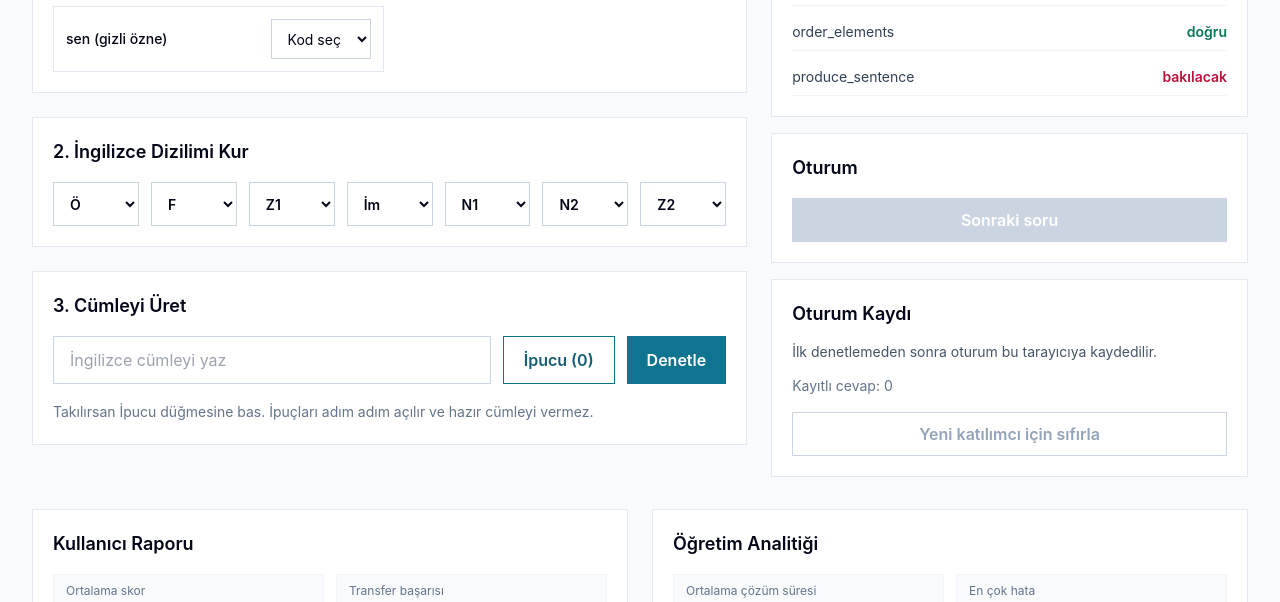
Test: LessonClient › clears revealed hints when moving to the next question
(page scrolled)
Step 1. Click the button "İpucu (0)" → {"x": 559, "y": 360}, box top-left (503, 336), bottom-right (615, 384)
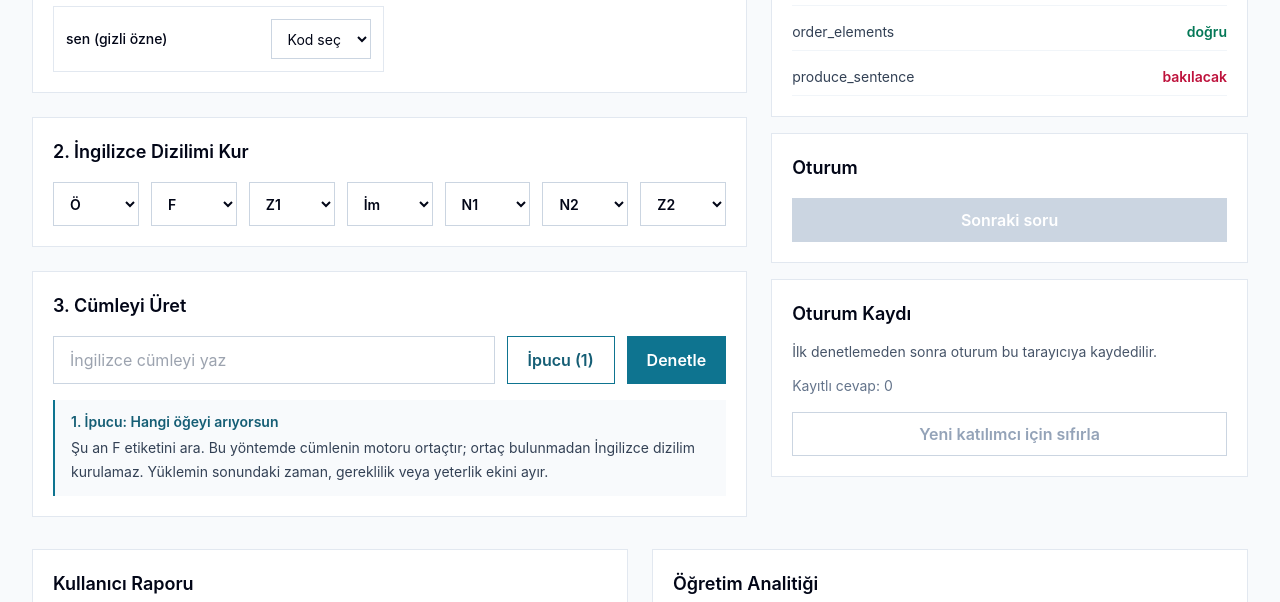
Expected: the text "1. İpucu: Hangi öğeyi arıyorsun" is shown, top-left (71, 413), bottom-right (278, 430)
Step 2. Click the button "Denetle" → {"x": 676, "y": 360}, box top-left (627, 336), bottom-right (726, 384)
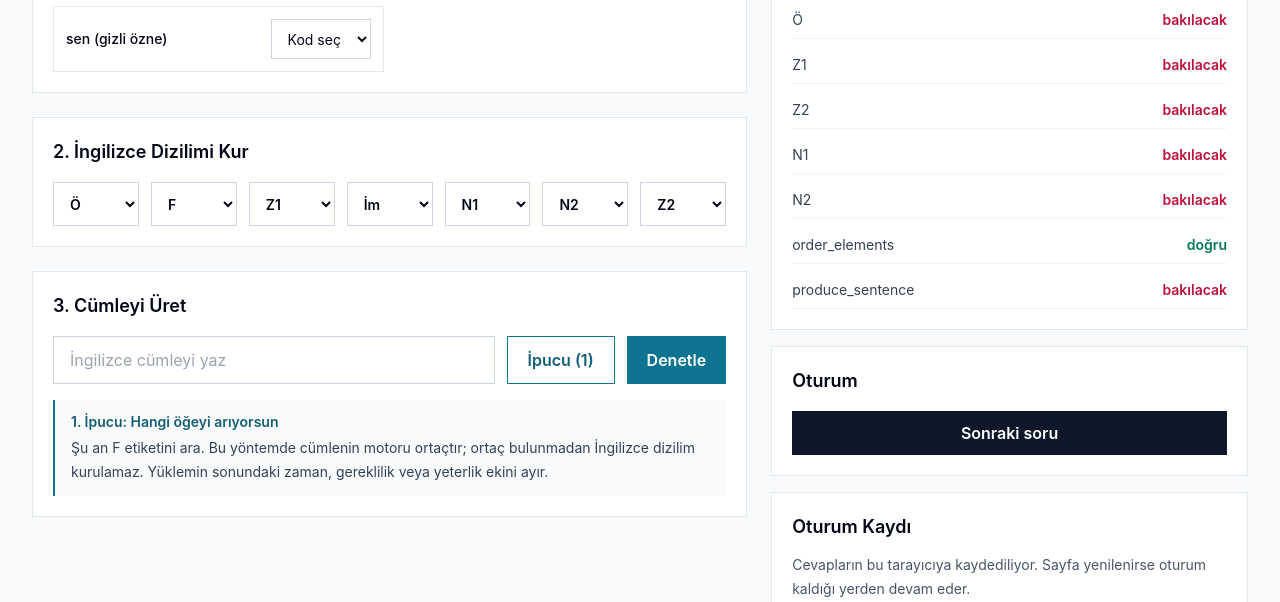
Step 3. Click the button "Sonraki soru" → {"x": 1010, "y": 433}, box top-left (792, 411), bottom-right (1227, 455)
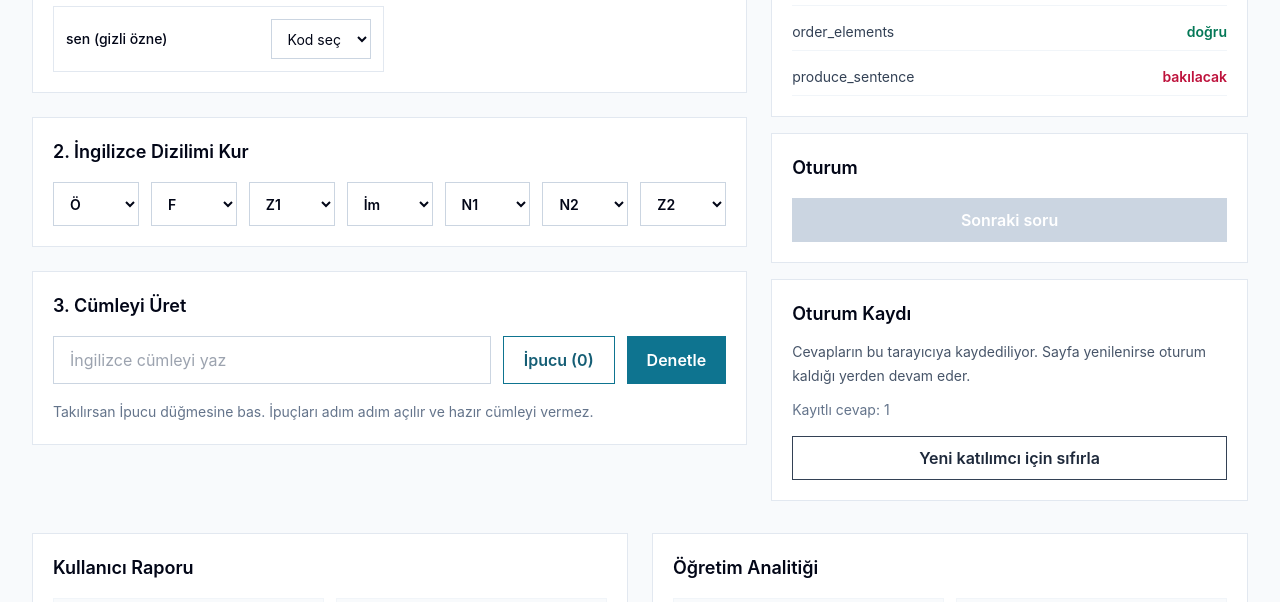
Expected: the text "1. İpucu" is gone
Expected: the button "İpucu (0)" is shown, top-left (503, 336), bottom-right (615, 384)
